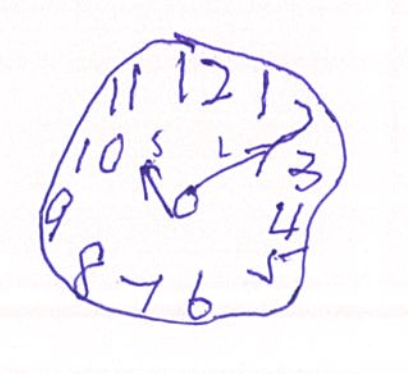1: (256, 70, 270, 121)
10: (74, 132, 127, 177)
11: (108, 62, 140, 116)
12: (175, 51, 233, 106)
2: (275, 97, 316, 142)
3: (287, 148, 323, 195)
4: (268, 199, 303, 242)
5: (246, 245, 310, 285)
6: (185, 269, 215, 321)
7: (117, 272, 163, 316)
8: (72, 239, 104, 303)
9: (39, 186, 73, 242)
contour: (35, 32, 348, 327)
hand: (140, 141, 276, 217)
top_left_arrow: (139, 164, 174, 218)
top_right_arrow: (191, 144, 272, 189)
